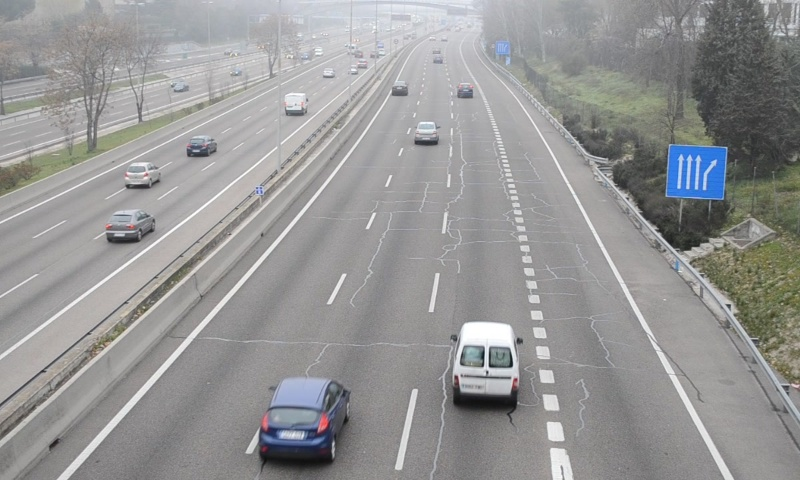car: (260, 377, 348, 456), (414, 121, 438, 143), (390, 80, 408, 97), (456, 82, 474, 98)
van: (452, 322, 520, 405)
